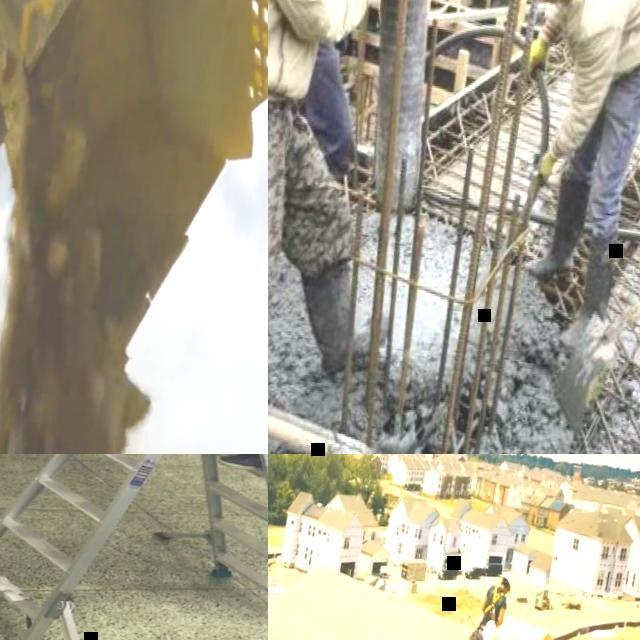helmet: (500, 570, 514, 594), (481, 619, 497, 640)
